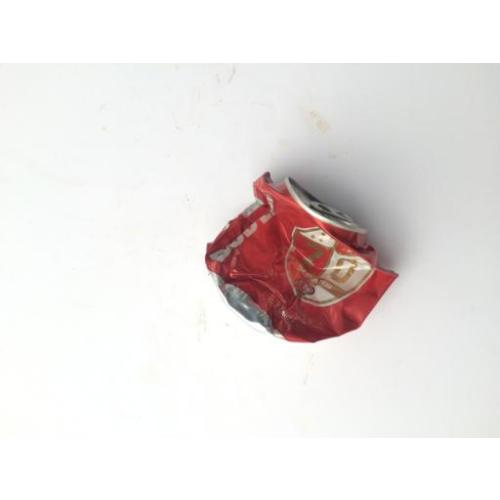metal: (212, 169, 395, 344)
